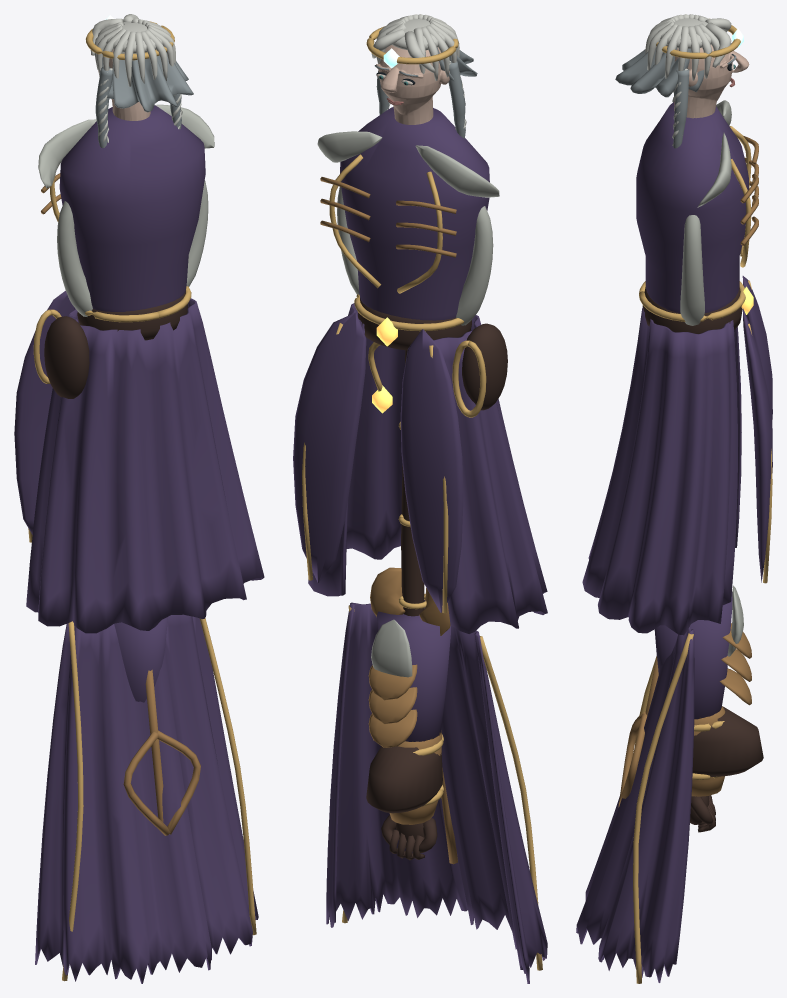
The model's file is arcanist.glb.
3 renders of one model, left to right at view 1: azimuth 30°, elevation 25°; view 2: azimuth 150°, elevation 25°; view 3: azimuth 270°, elevation 25°, orthographic. The views are drawn at different scales.
Parts seen in each view (by area): view 1: Body__violet, Cape__violet, Body__leather, Cape__gold, Body__hair, Weapon__silver, Cape__bronze, Body__hair_shadow, LegL__violet, Body__silver, Body__gold, HairL__hair_shadow (+1 smaller); view 2: Body__violet, Cape__violet, Body__gold, LegL__violet, Body__leather, KneeL__leather, KneeL__bronze, Body__silver, Weapon__silver, Body__skin, Body__hair, Cape__gold (+9 smaller); view 3: Body__violet, Cape__violet, LegL__violet, Body__hair, KneeL__leather, Body__gold, Cape__gold, Weapon__silver, Body__hair_shadow, Body__skin, KneeL__bronze, Cape__bronze (+7 smaller).
Boxes of the visible parts, bbox=[...] form: Body__violet: bbox=[14, 105, 264, 633]; Cape__violet: bbox=[35, 614, 258, 983]; Body__leather: bbox=[44, 290, 187, 398]; Cape__gold: bbox=[62, 618, 256, 981]; Body__hair: bbox=[90, 14, 175, 86]; Weapon__silver: bbox=[57, 180, 208, 316]; Cape__bronze: bbox=[123, 669, 200, 835]; Body__hair_shadow: bbox=[99, 52, 193, 112]; LegL__violet: bbox=[114, 617, 167, 702]; Body__silver: bbox=[38, 104, 214, 188]; Body__gold: bbox=[28, 21, 191, 542]; HairL__hair_shadow: bbox=[95, 67, 112, 148]; Body__violet: bbox=[293, 107, 547, 633]; Cape__violet: bbox=[326, 602, 547, 983]; Body__gold: bbox=[302, 26, 486, 613]; LegL__violet: bbox=[376, 600, 450, 741]; Body__leather: bbox=[358, 298, 507, 410]; KneeL__leather: bbox=[366, 746, 442, 813]; KneeL__bronze: bbox=[368, 664, 441, 747]; Body__silver: bbox=[317, 131, 499, 197]; Weapon__silver: bbox=[337, 186, 493, 325]; Body__skin: bbox=[376, 45, 449, 124]; Body__hair: bbox=[371, 14, 459, 80]; Cape__gold: bbox=[342, 605, 542, 970]; Body__violet: bbox=[582, 102, 772, 635]; Cape__violet: bbox=[576, 627, 694, 982]; LegL__violet: bbox=[654, 592, 732, 719]; Body__hair: bbox=[645, 14, 731, 80]; KneeL__leather: bbox=[692, 706, 763, 776]; Body__gold: bbox=[639, 18, 772, 583]; Cape__gold: bbox=[633, 633, 693, 983]; Weapon__silver: bbox=[680, 215, 704, 325]; Body__hair_shadow: bbox=[615, 43, 736, 97]; Body__skin: bbox=[667, 44, 749, 118]; KneeL__bronze: bbox=[699, 623, 751, 718]; Cape__bronze: bbox=[618, 656, 658, 807].
Size of the model in its own units: 0.8228 by 3.23 by 0.6284.
